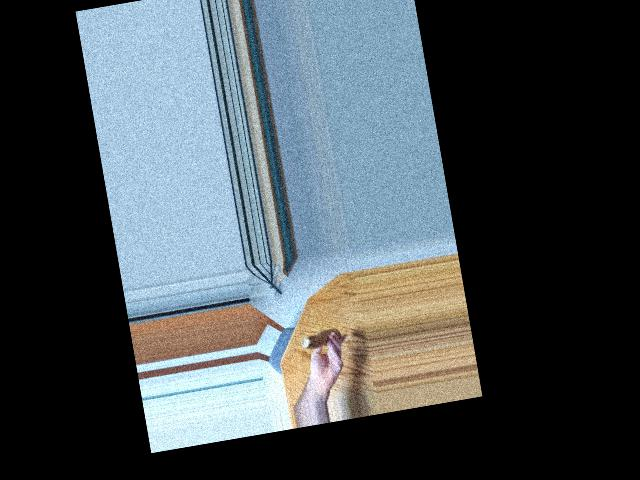sweet_potato: (306, 327, 340, 350)
